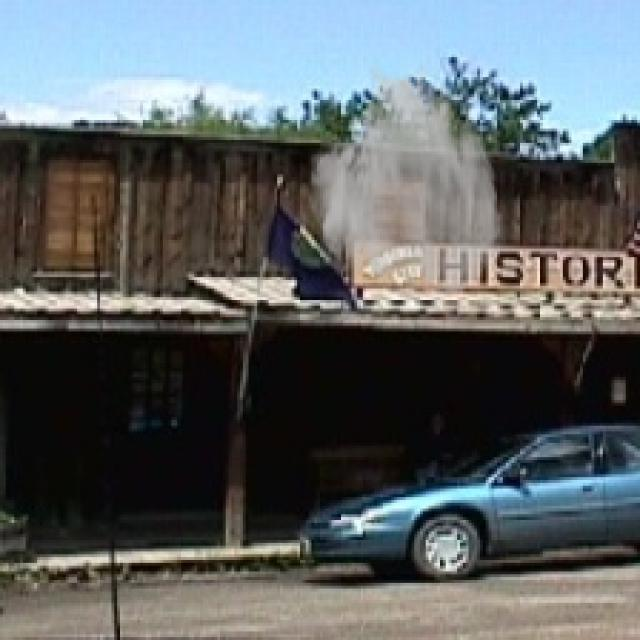smoke: (306, 60, 506, 300)
